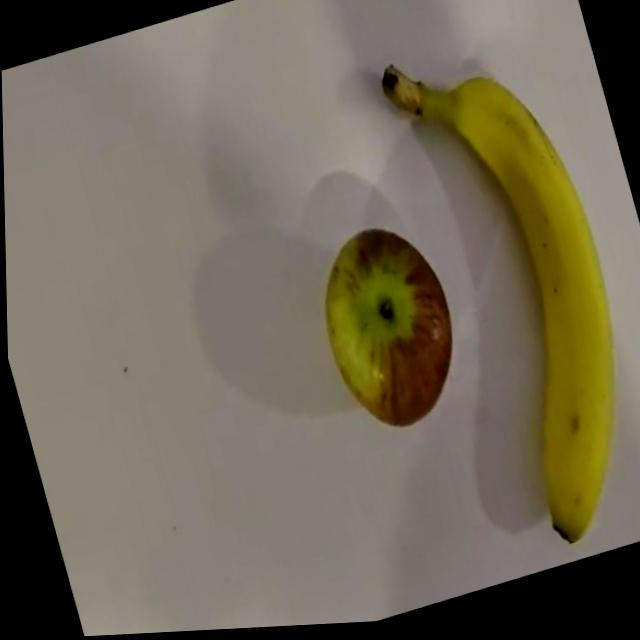Apple: (298, 207, 475, 446)
Banana: (426, 59, 640, 553)
